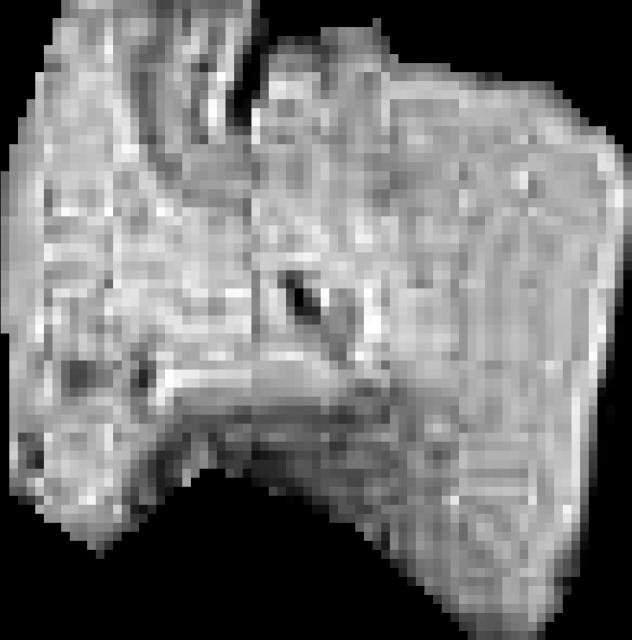tumor_good_chance: (1, 0, 632, 640)
